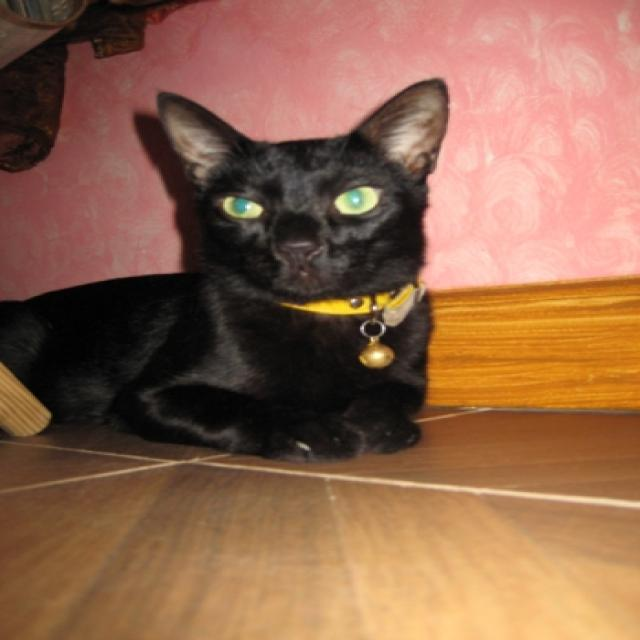cat: (156, 77, 446, 293)
